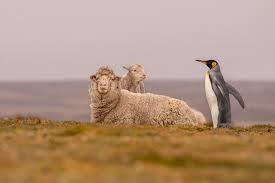king: (185, 53, 255, 133)
